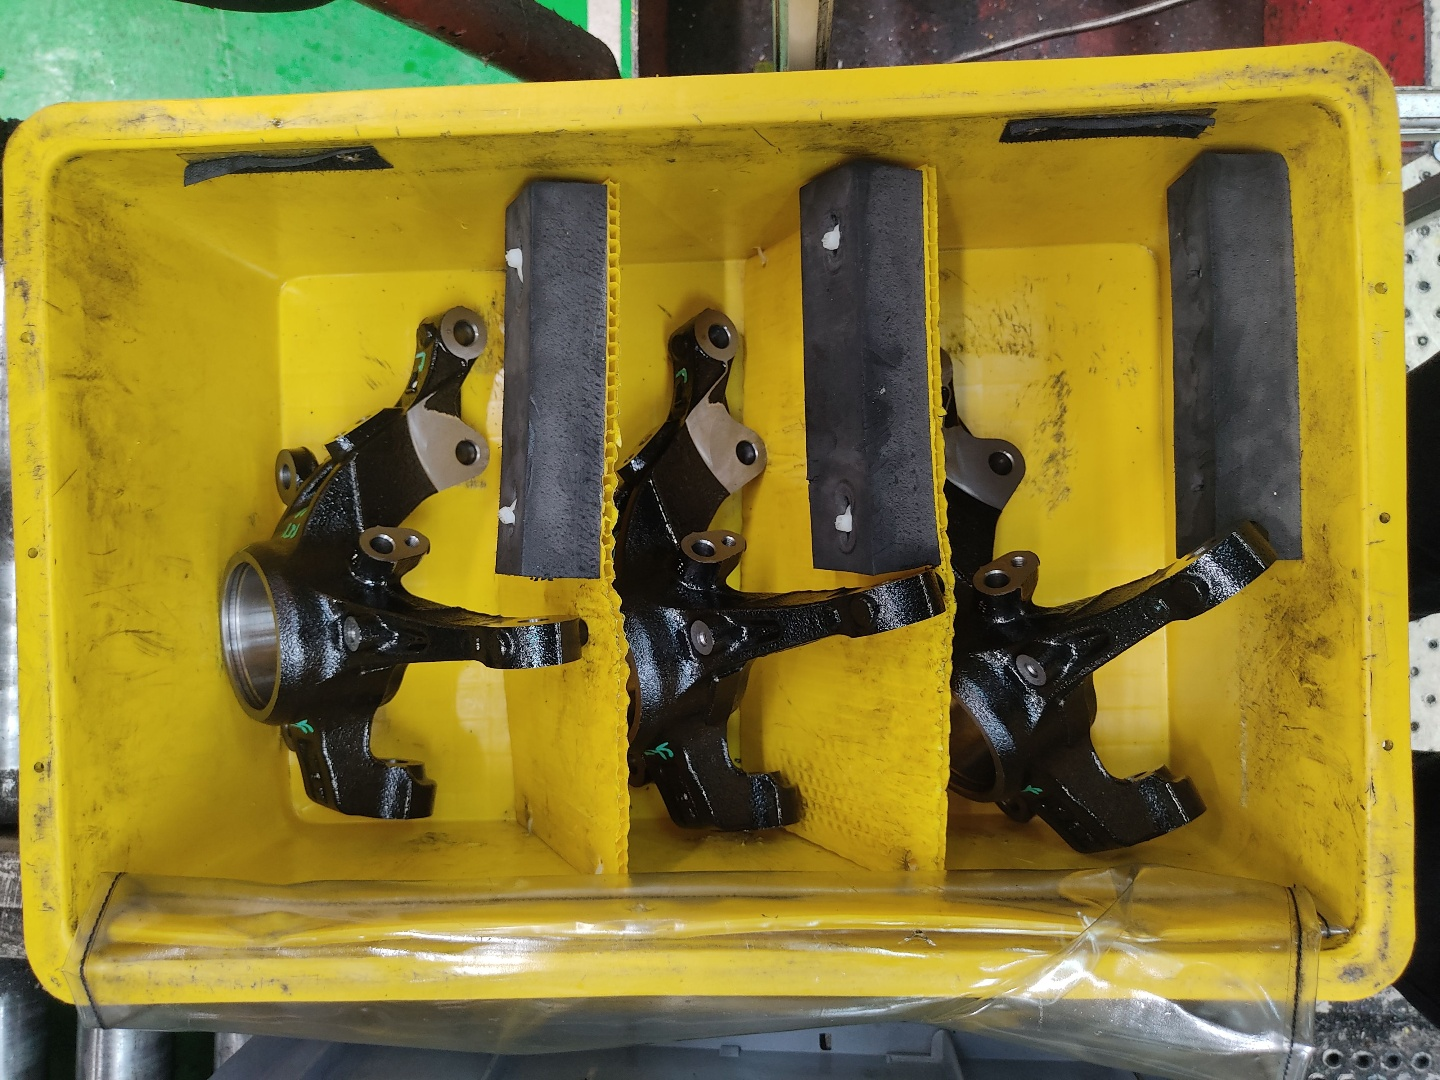abs-lh: (207, 295, 594, 830), (927, 324, 1284, 863), (607, 295, 949, 842)
